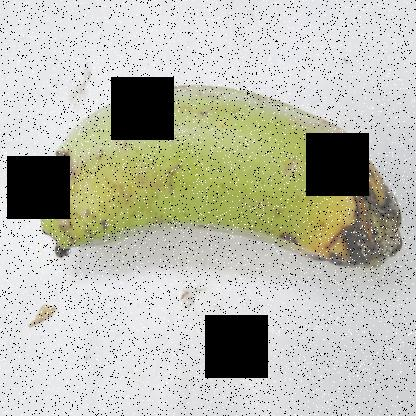unripe: (33, 53, 323, 274)
